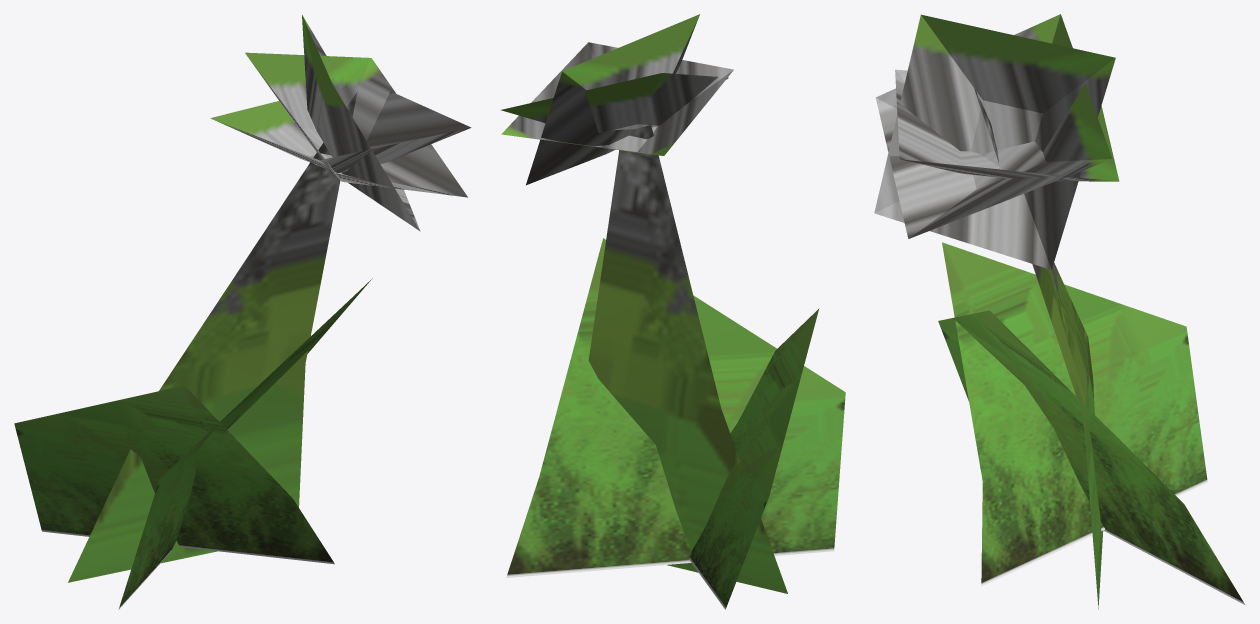
The model's file is Fleur_03B.fbx.
The picture shows the model from 3 angles, left to right: view 1: azimuth 30°, elevation 25°; view 2: azimuth 150°, elevation 25°; view 3: azimuth 270°, elevation 25°; orthographic projection. The views are drawn at different scales.
Visible parts, largest first — view 1: Fleur_03B; view 2: Fleur_03B; view 3: Fleur_03B.
Part boxes in pixels (bbox=[...]): Fleur_03B: bbox=[14, 15, 471, 609]; Fleur_03B: bbox=[501, 14, 845, 609]; Fleur_03B: bbox=[874, 14, 1245, 609].
Bounding box in the file's own units: 0.5743 × 0.8779 × 0.5184.
